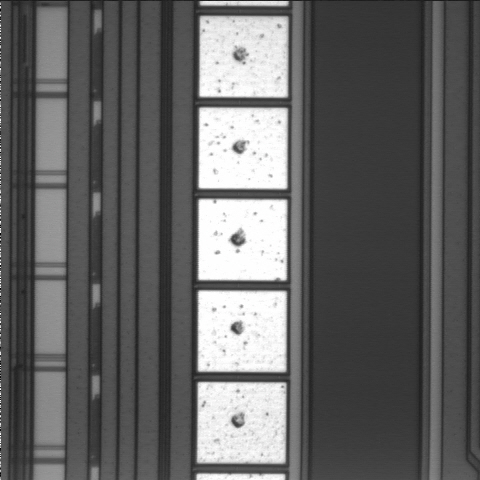pad: (199, 16, 288, 98), (198, 290, 287, 372), (197, 382, 286, 464), (199, 108, 288, 189), (198, 199, 287, 280)
